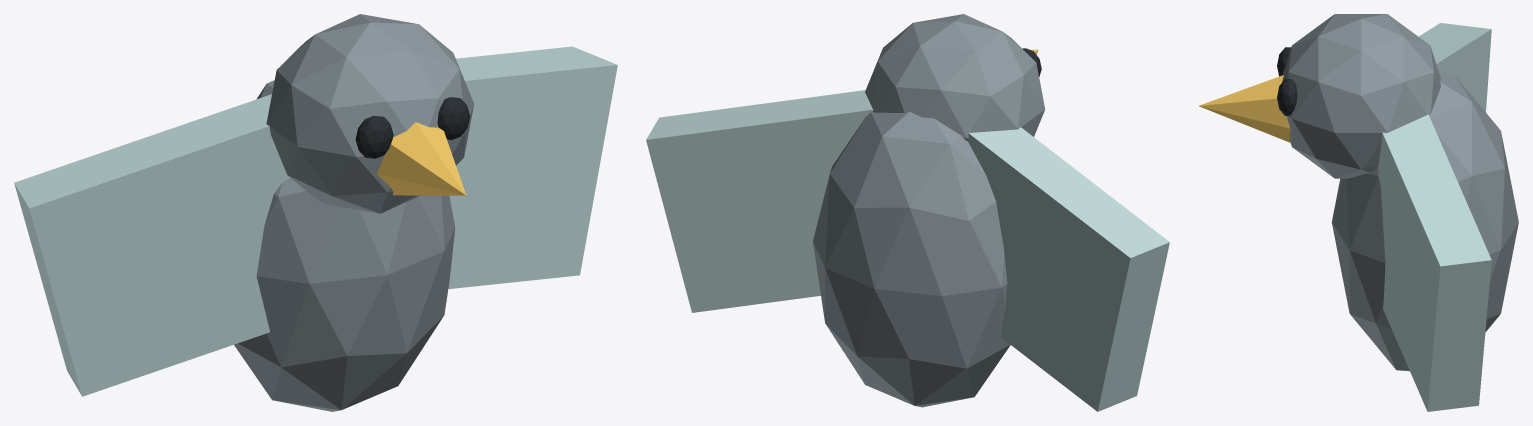
The model's file is windwood-gale-hawk.glb.
3 renders of one model, left to right at view 1: azimuth 30°, elevation 25°; view 2: azimuth 150°, elevation 25°; view 3: azimuth 270°, elevation 25°, orthographic. The views are drawn at different scales.
Visible parts, largest first — view 1: wing, body, wing.001, head, beak, eye, eye.001; view 2: body, wing, wing.001, head; view 3: wing.001, head, body, wing, beak, eye.001.
Boxes of the visible parts, x1,y1,x2,y2 form: wing: (14,94,289,396); body: (234,80,455,411); wing.001: (448,46,617,288); head: (266,14,473,213); beak: (377,122,466,195); eye: (355,115,393,158); eye.001: (437,97,469,139); body: (813,111,1010,407); wing: (968,127,1169,411); wing.001: (646,90,873,312); head: (865,14,1045,141); wing.001: (1377,114,1491,411); head: (1282,14,1440,178); body: (1331,73,1518,371); wing: (1419,23,1491,111); beak: (1199,75,1290,142); eye.001: (1277,79,1297,115).
Bounding box in the file's own units: 2.16 × 1.46 × 1.2.
